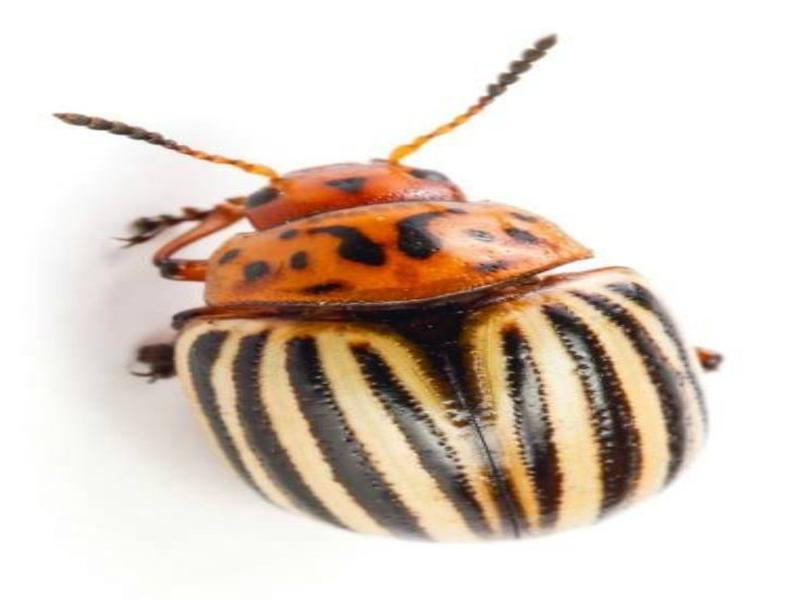hrosc: (182, 131, 717, 540)
